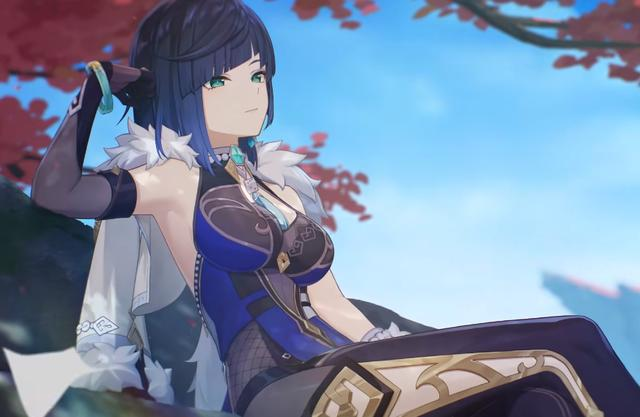夜兰: (30, 6, 638, 417)
